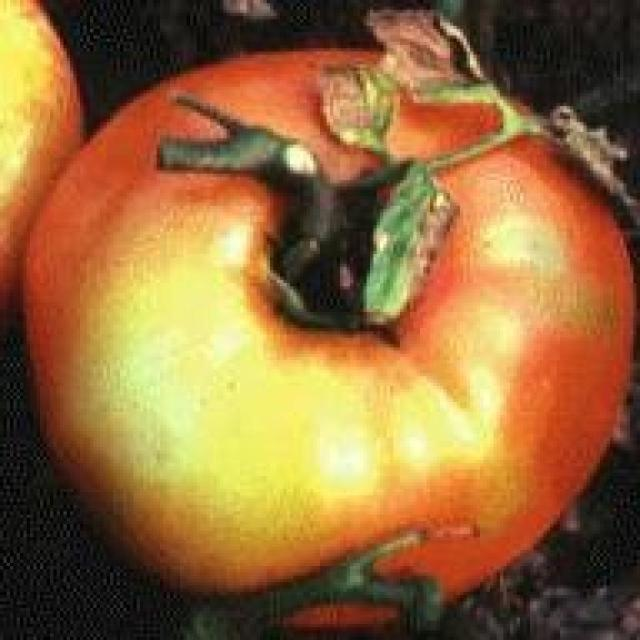Sunscald Fruit: (13, 76, 296, 247)
